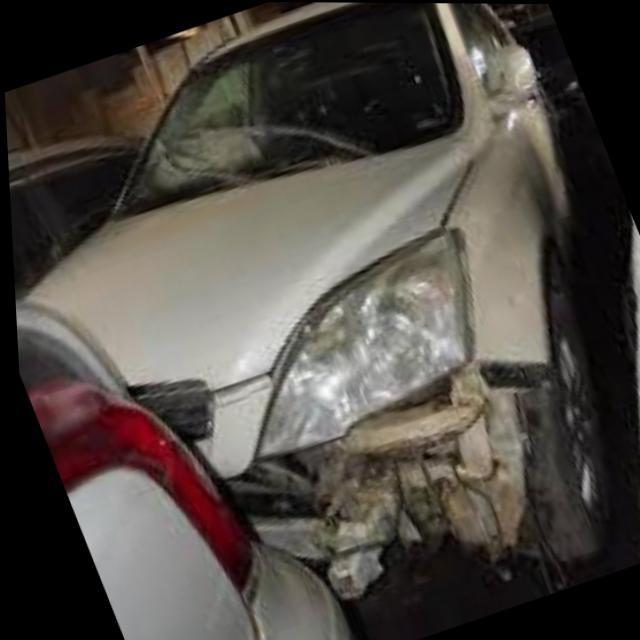no part: (226, 351, 547, 602)
